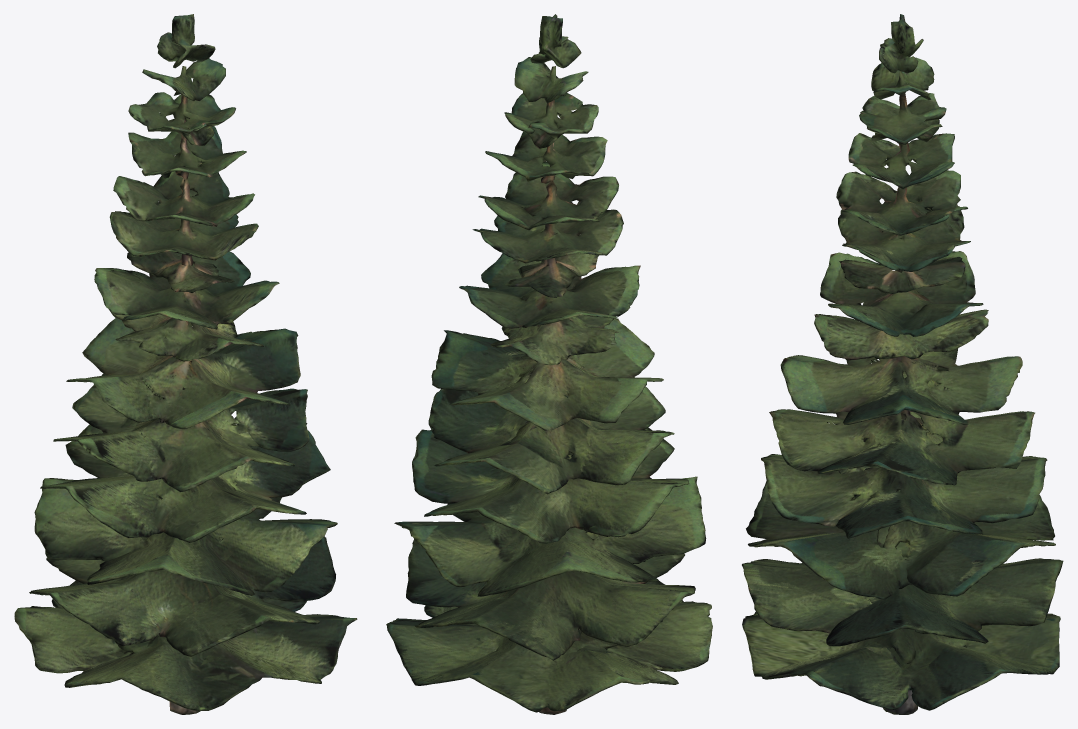
Rendered from AI_TallSpruceTree.fbx.
The picture shows the model from 3 angles, left to right: view 1: azimuth 30°, elevation 25°; view 2: azimuth 150°, elevation 25°; view 3: azimuth 270°, elevation 25°; orthographic projection.
Visible parts, largest first — view 1: Mesh_0; view 2: Mesh_0; view 3: Mesh_0.
Boxes of the visible parts, x1,y1,x2,y2 form: Mesh_0: (14, 14, 357, 714); Mesh_0: (386, 14, 712, 714); Mesh_0: (742, 14, 1063, 714).
Bounding box in the file's own units: 83.91 × 201 × 85.14.
Materials: 1 (1 with a texture image).
